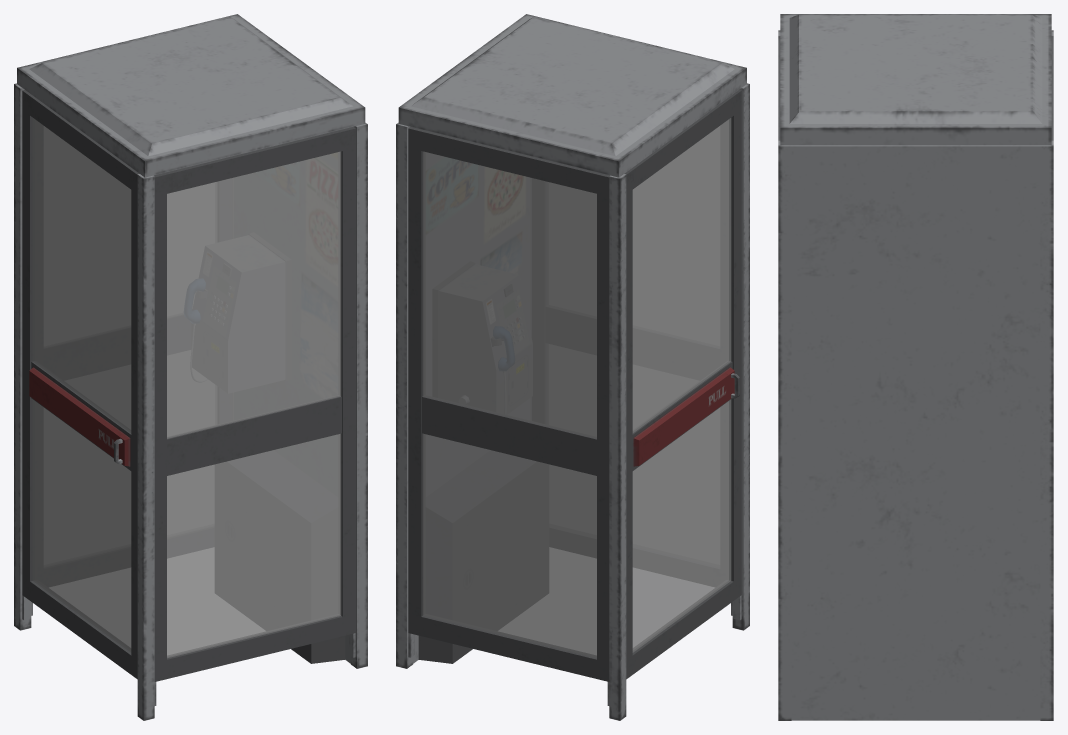
The model's file is Phone Booth.fbx.
The picture shows the model from 3 angles, left to right: view 1: azimuth 30°, elevation 25°; view 2: azimuth 150°, elevation 25°; view 3: azimuth 270°, elevation 25°; orthographic projection. The views are drawn at different scales.
Parts seen in each view (by area): view 1: Phone_Booth; view 2: Phone_Booth; view 3: Phone_Booth.
Boxes of the visible parts, left/top/right/bottom form: Phone_Booth: left=14, top=14, right=367, bottom=720; Phone_Booth: left=396, top=14, right=749, bottom=720; Phone_Booth: left=778, top=14, right=1053, bottom=720.
Bounding box in the file's own units: 98.22 × 228 × 94.74.
2 materials, 1 textured.
